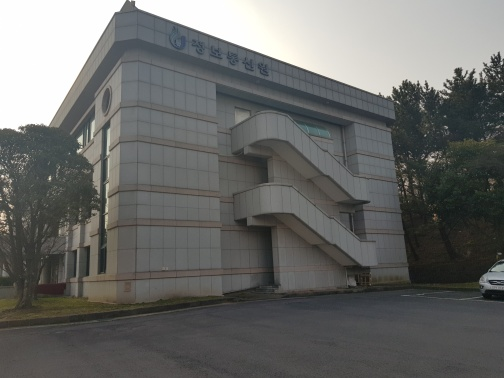Information Telecommunication Center: (92, 22, 411, 300), (166, 22, 281, 83)
